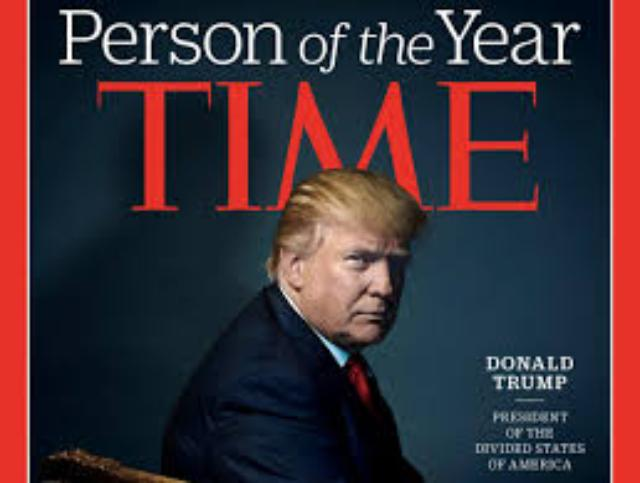cardboard paper: (27, 0, 613, 483)
